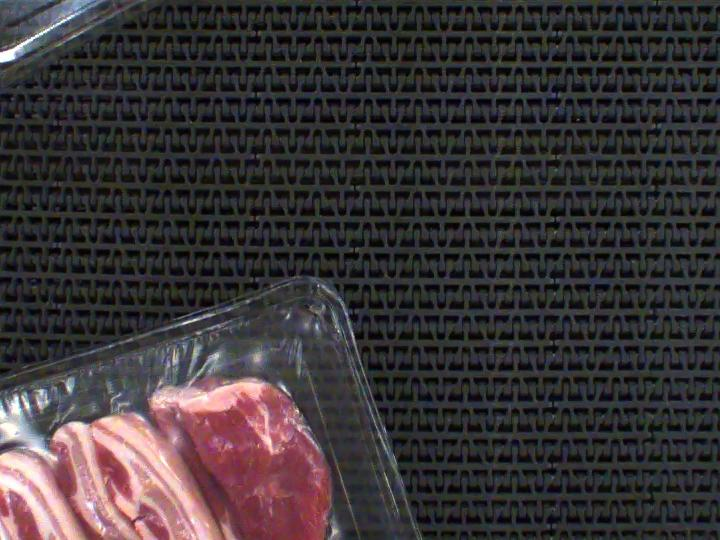unsealed: (0, 317, 403, 540)
